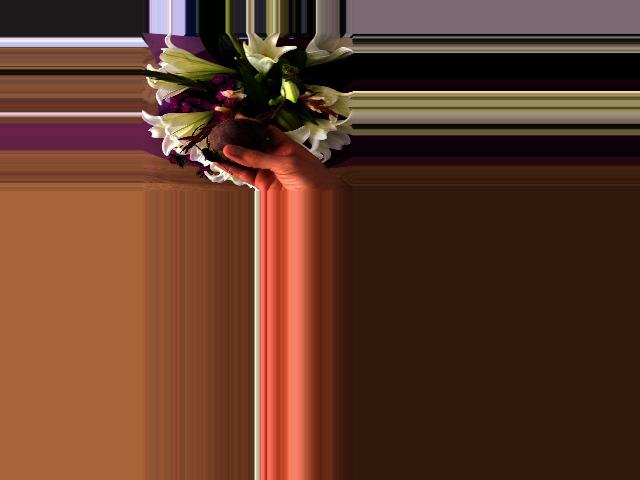beet: (191, 87, 285, 163)
